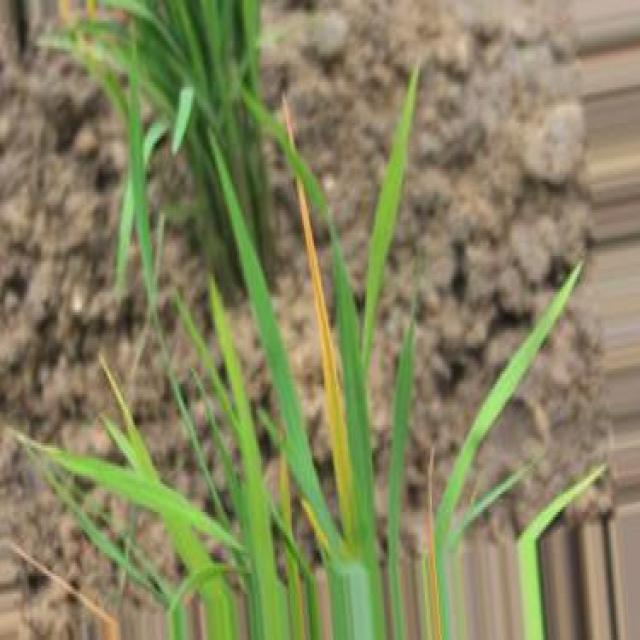Rice Tungro: (297, 178, 354, 539)
